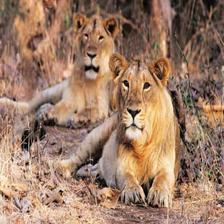Lion: (80, 57, 202, 193), (32, 8, 121, 124)
